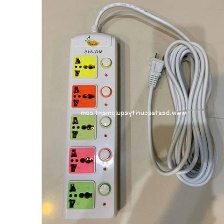three_eye_plug: (60, 27, 125, 222)
